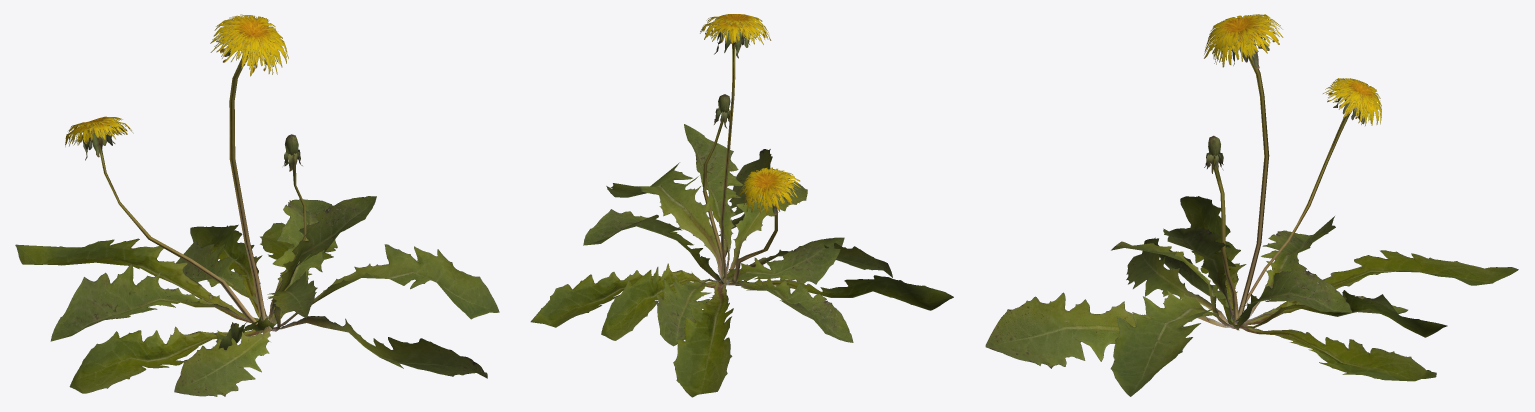
The model's file is dandelion_01_a_LOD1.glb.
3 renders of one model, left to right at view 1: azimuth 30°, elevation 25°; view 2: azimuth 150°, elevation 25°; view 3: azimuth 270°, elevation 25°, orthographic. The views are drawn at different scales.
Visible parts, largest first — view 1: dandelion_01_a_LOD1__lod0; view 2: dandelion_01_a_LOD1__lod0; view 3: dandelion_01_a_LOD1__lod0.
Boxes of the visible parts, x1,y1,x2,y2 form: dandelion_01_a_LOD1__lod0: (15, 14, 499, 396); dandelion_01_a_LOD1__lod0: (530, 14, 953, 397); dandelion_01_a_LOD1__lod0: (985, 14, 1518, 396).
Size of what is drawn, in the model's own units: 0.2204 by 0.1617 by 0.2577.
1 material, 1 textured.
